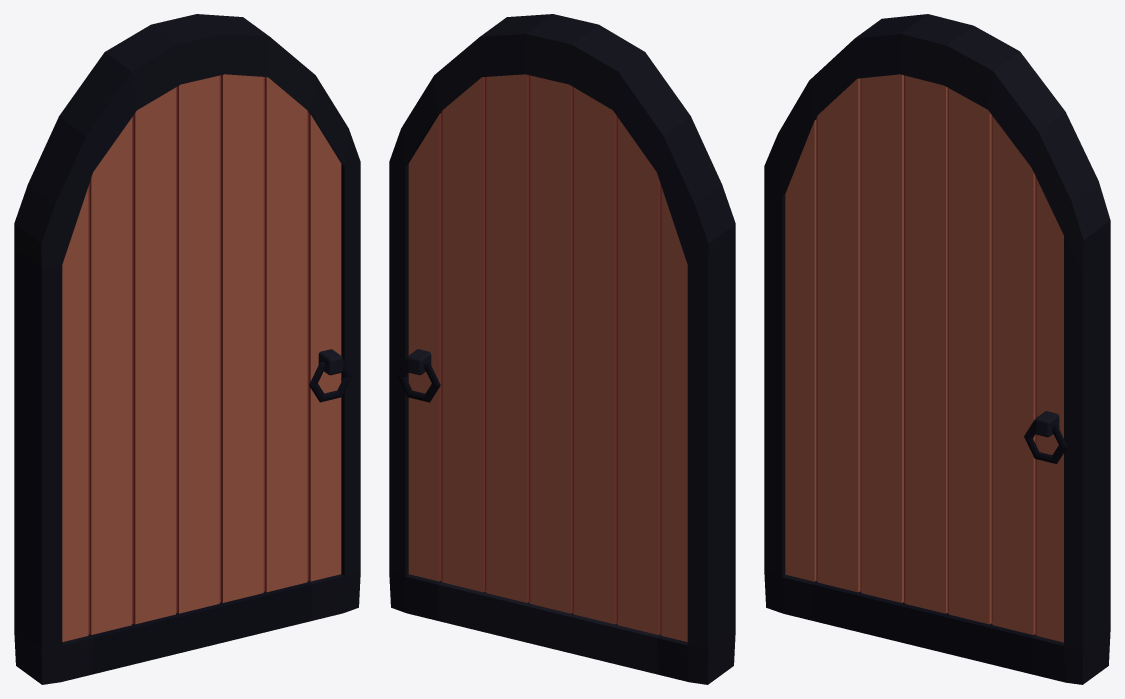
File: door2.fbx
3 renders of one model, left to right at view 1: azimuth 30°, elevation 25°; view 2: azimuth 150°, elevation 25°; view 3: azimuth 330°, elevation 25°, orthographic.
Parts seen in each view (by area): view 1: door2; view 2: door2; view 3: door2.
Boxes of the visible parts, x1,y1,x2,y2 form: door2: (14,14,360,684); door2: (389,14,735,684); door2: (764,14,1110,684).
Bounding box in the file's own units: 116 × 210 × 28.16.
